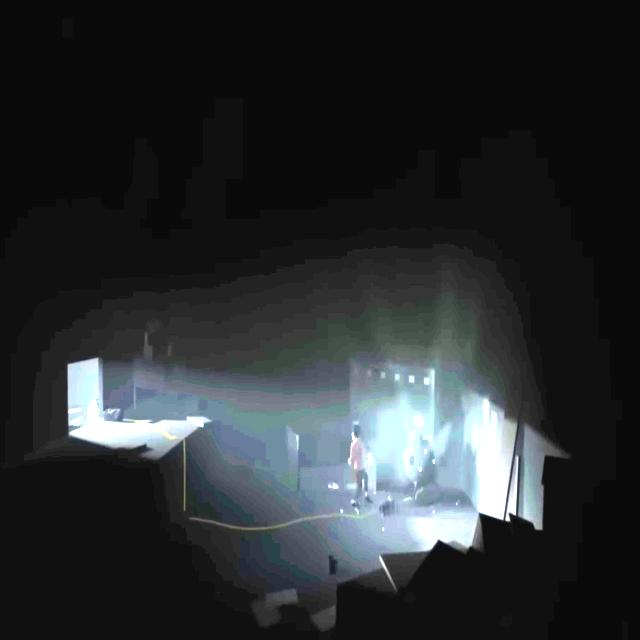boy: (347, 424, 373, 503)
